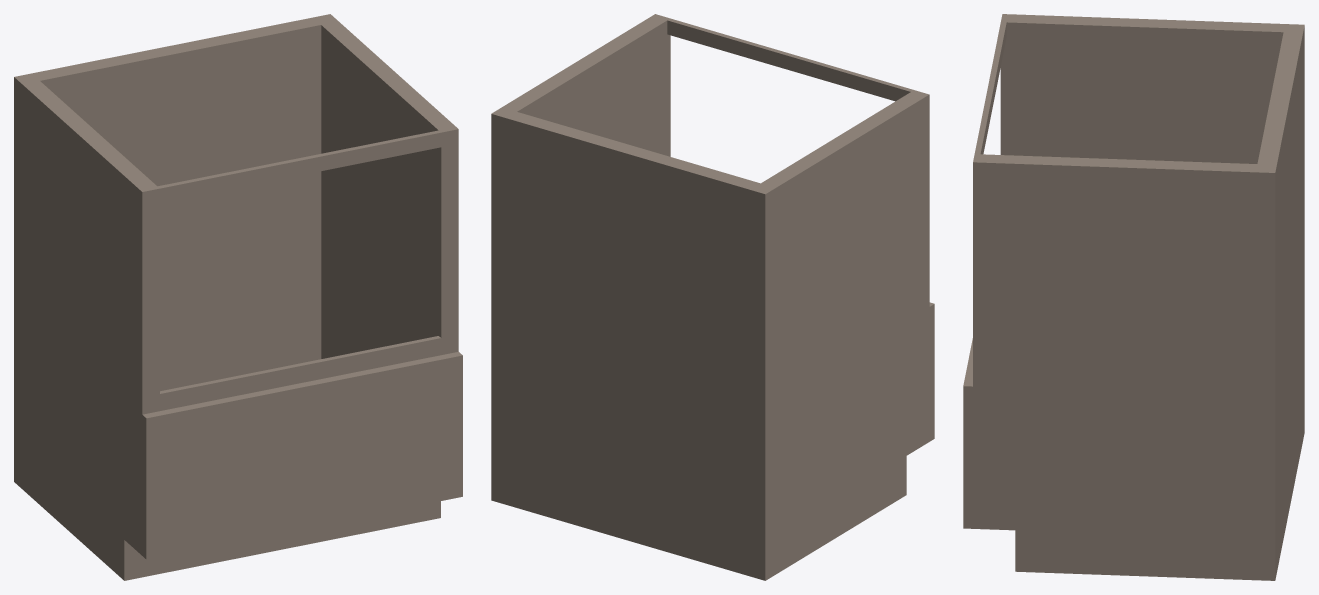
File: Base-Cabinet-Microwave-24-Deep.std.glb
3 renders of one model, left to right at view 1: azimuth 30°, elevation 25°; view 2: azimuth 150°, elevation 25°; view 3: azimuth 270°, elevation 25°, orthographic. The views are drawn at different scales.
Parts seen in each view (by area): view 1: Base-Cabinet-Microwave-24-Deep.std.001; view 2: Base-Cabinet-Microwave-24-Deep.std.001; view 3: Base-Cabinet-Microwave-24-Deep.std.001.
Boxes of the visible parts, x1,y1,x2,y2 form: Base-Cabinet-Microwave-24-Deep.std.001: [14, 14, 462, 580]; Base-Cabinet-Microwave-24-Deep.std.001: [491, 14, 934, 580]; Base-Cabinet-Microwave-24-Deep.std.001: [963, 14, 1304, 580].
Size of the model in its own units: 0.7343 by 0.8763 by 0.6648.
